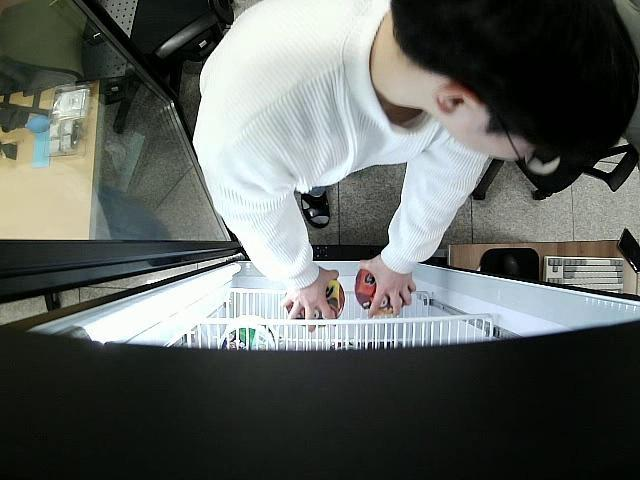05_nuguri_L: (286, 279, 345, 325), (356, 268, 408, 316)
